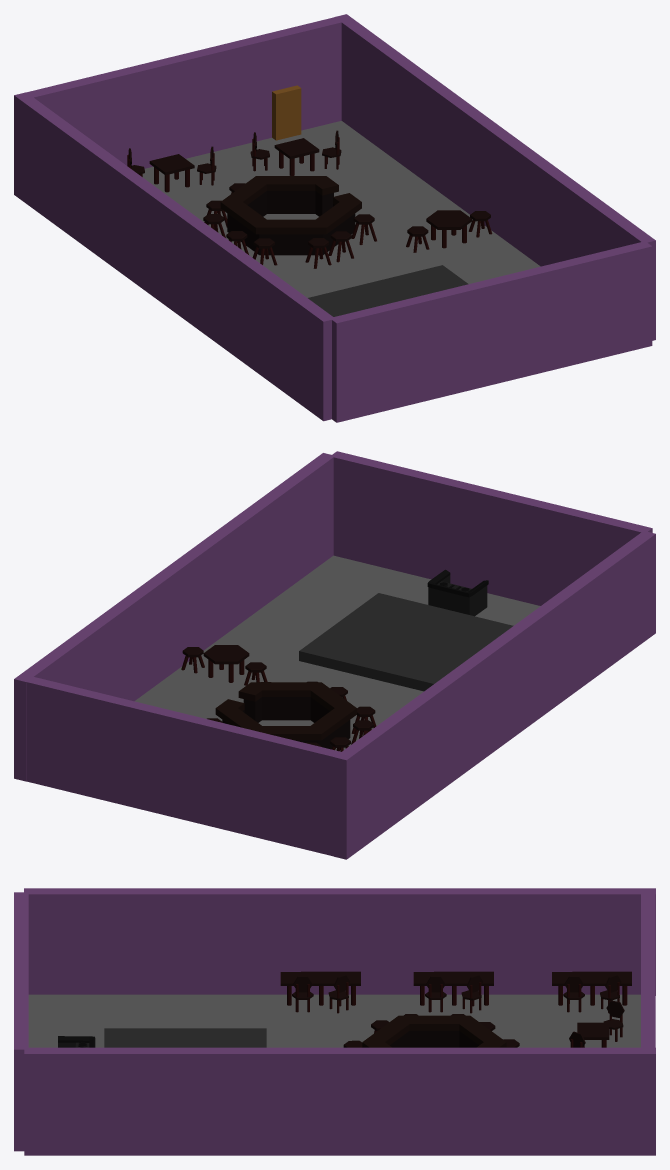
File: Club.fbx
The picture shows the model from 3 angles, top to bottom: view 1: azimuth 30°, elevation 25°; view 2: azimuth 150°, elevation 25°; view 3: azimuth 270°, elevation 25°; orthographic projection. The views are drawn at different scales.
Parts seen in each view (by area): view 1: Wall (3), Wall, Wall (2), Wall (1), Floor, CircleBar, DanceFloor, Door, Cylinder.011, Cube_1, Cube; view 2: Wall (3), Wall (1), Wall (2), Wall, Floor, DanceFloor, CircleBar, DJTable, Cylinder.011; view 3: Wall (2), Wall (3), Floor, CircleBar, Wall, DanceFloor, Wall (1), Cube.001, Cube.001_1, Cube.001_2, Cube, DJTable.
Part boxes in pixels (left/top/right/bottom): Wall (3): left=14, top=92, right=335, bottom=421; Wall: left=332, top=241, right=652, bottom=422; Wall (2): left=334, top=14, right=655, bottom=340; Wall (1): left=18, top=16, right=344, bottom=168; Floor: left=142, top=121, right=540, bottom=297; CircleBar: left=220, top=176, right=361, bottom=255; DanceFloor: left=308, top=265, right=468, bottom=316; Door: left=272, top=85, right=301, bottom=140; Cylinder.011: left=426, top=210, right=471, bottom=229; Cube_1: left=274, top=138, right=319, bottom=159; Cube: left=149, top=154, right=194, bottom=175; Wall (3): left=334, top=531, right=655, bottom=859; Wall (1): left=23, top=676, right=349, bottom=856; Wall (2): left=14, top=453, right=335, bottom=781; Wall: left=331, top=451, right=652, bottom=605; Floor: left=134, top=555, right=540, bottom=751; DanceFloor: left=299, top=593, right=513, bottom=691; CircleBar: left=215, top=682, right=356, bottom=749; DJTable: left=427, top=569, right=488, bottom=616; Cylinder.011: left=203, top=645, right=249, bottom=664; Wall (2): left=24, top=1047, right=655, bottom=1155; Wall (3): left=24, top=888, right=655, bottom=995; Floor: left=28, top=994, right=640, bottom=1047; CircleBar: left=362, top=1015, right=506, bottom=1047; Wall: left=14, top=892, right=28, bottom=1151; DanceFloor: left=104, top=1028, right=266, bottom=1047; Wall (1): left=641, top=890, right=655, bottom=1049; Cube.001: left=280, top=971, right=360, bottom=985; Cube.001_1: left=413, top=971, right=493, bottom=985; Cube.001_2: left=552, top=971, right=631, bottom=985; Cube: left=577, top=1022, right=609, bottom=1039; DJTable: left=58, top=1036, right=95, bottom=1047.
Bounding box in the file's own units: 2697 × 913 × 4414.
